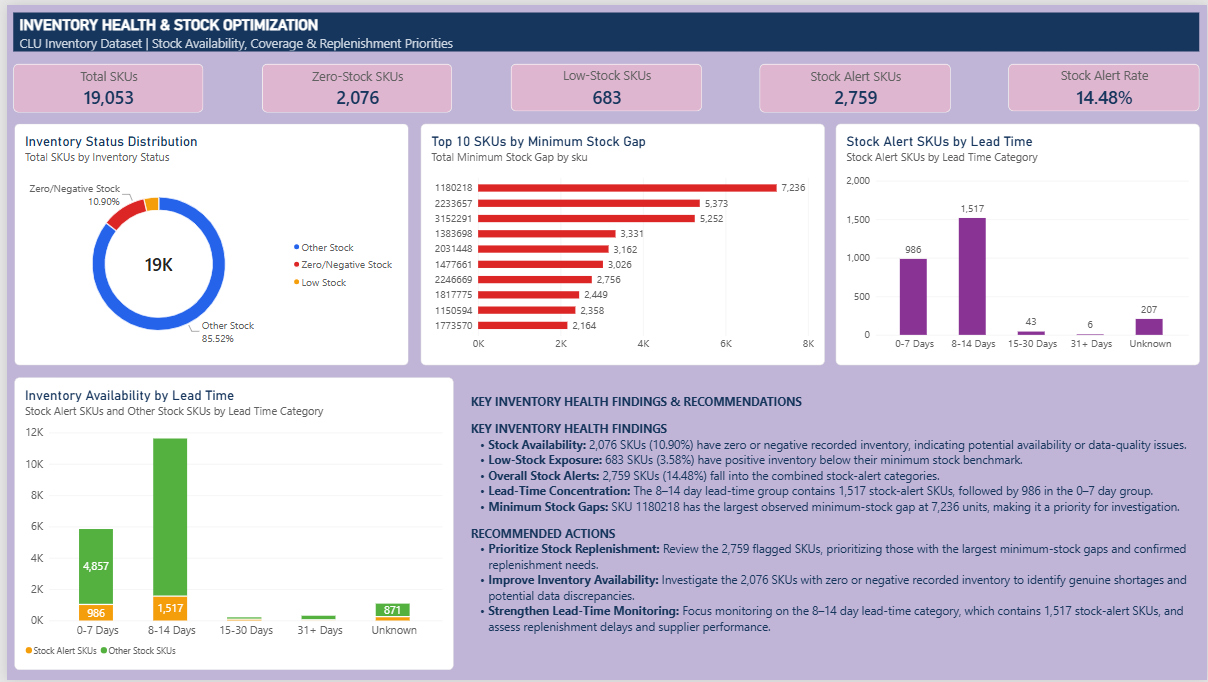

What the dashboard file says about the page in this screenshot:
{"tool":"powerbi","page":{"name":"04 \\| Inventory Health","canvas":[1920,1080],"ordinal":4},"visuals":[{"type":"textbox","title":"INVENTORY HEALTH & STOCK OPTIMIZATION","box":[9.2,12.9,1897.6,62.6],"z":0},{"type":"cardVisual","fields":{"Data":["Delivery_Status.Total SKUs"]},"box":[10,94,304,78],"z":1000},{"type":"cardVisual","fields":{"Data":["Delivery_Status.Zero-Stock SKUs"]},"box":[408,94,304,78],"z":2000},{"type":"cardVisual","fields":{"Data":["mart fact_inventory.Low-Stock SKUs"]},"box":[806,94,306,76],"z":3000},{"type":"cardVisual","fields":{"Data":["mart fact_inventory.Stock Alert SKUs"]},"box":[1204,94,306,78],"z":4000},{"type":"cardVisual","fields":{"Data":["mart fact_inventory.Stock Alert Rate"]},"box":[1602,94,306,76],"z":5000},{"type":"donutChart","title":"Inventory Status Distribution","fields":{"Category":["mart fact_inventory.Inventory Status"],"Y":["mart fact_inventory.Total SKUs"]},"box":[12,190,630,386],"z":6000},{"type":"clusteredBarChart","title":"Top 10 SKUs by Minimum Stock Gap","fields":{"Category":["mart fact_inventory.sku"],"Y":["mart fact_inventory.Total Minimum Stock Gap"]},"box":[662,190,646,386],"z":7000},{"type":"clusteredColumnChart","title":"\tStock Alert SKUs by Lead Time","fields":{"Category":["mart fact_inventory.Lead Time Category"],"Y":["mart fact_inventory.Stock Alert SKUs"]},"box":[1326,190,582,386],"z":8000},{"type":"columnChart","title":"Inventory Availability by Lead Time","fields":{"Category":["mart fact_inventory.Lead Time Category"],"Y":["mart fact_inventory.Stock Alert SKUs","mart fact_inventory.Other Stock SKUs"]},"box":[12,596,702,468],"z":9000},{"type":"textbox","box":[742,622,1166,422],"z":10000}]}

Visuals, with their boxes in screenshot pixels (x1, y1, x2, y2), scaled from the page's 1920x1080 canvas onto the 1208x682 screenshot:
"INVENTORY HEALTH & STOCK OPTIMIZATION" textbox: (6, 8, 1200, 48)
cardVisual - Delivery_Status.Total SKUs: (6, 59, 198, 109)
cardVisual - Delivery_Status.Zero-Stock SKUs: (257, 59, 448, 109)
cardVisual - mart fact_inventory.Low-Stock SKUs: (507, 59, 700, 107)
cardVisual - mart fact_inventory.Stock Alert SKUs: (758, 59, 950, 109)
cardVisual - mart fact_inventory.Stock Alert Rate: (1008, 59, 1200, 107)
"Inventory Status Distribution" donutChart: (8, 120, 404, 364)
"Top 10 SKUs by Minimum Stock Gap" clusteredBarChart: (417, 120, 823, 364)
"	Stock Alert SKUs by Lead Time" clusteredColumnChart: (834, 120, 1200, 364)
"Inventory Availability by Lead Time" columnChart: (8, 376, 449, 672)
textbox: (467, 393, 1200, 659)
